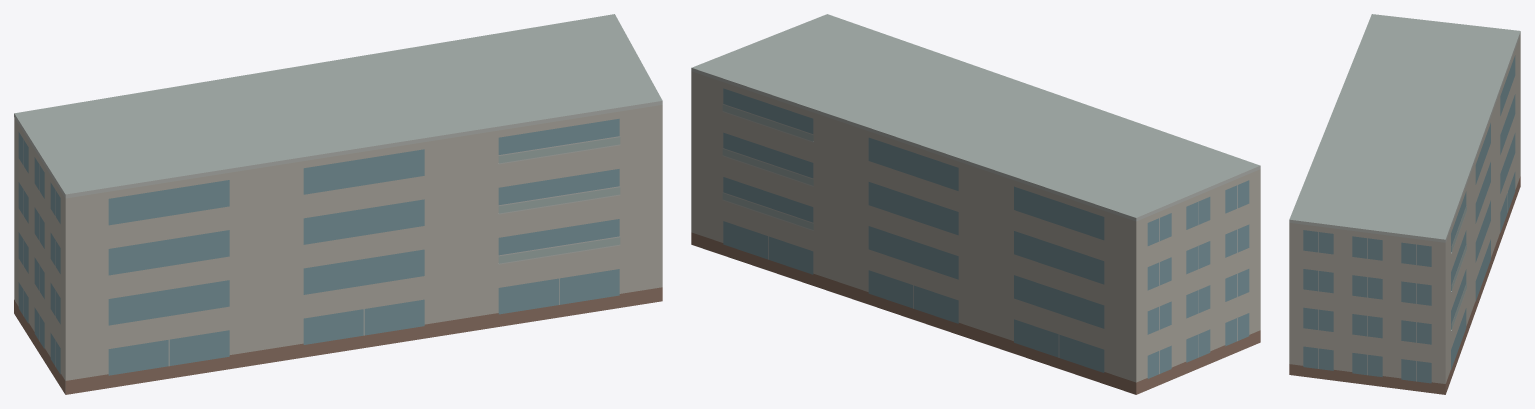
File: residential-3a960058-373b-4bc1-be45-e3796de93182.glb
The picture shows the model from 3 angles, left to right: view 1: azimuth 30°, elevation 25°; view 2: azimuth 150°, elevation 25°; view 3: azimuth 270°, elevation 25°; orthographic projection. The views are drawn at different scales.
Visible parts, largest first — view 1: residential-3a960058-373b-4bc1-be45-e3796de93182.tmp; view 2: residential-3a960058-373b-4bc1-be45-e3796de93182.tmp; view 3: residential-3a960058-373b-4bc1-be45-e3796de93182.tmp.
Boxes of the visible parts, box(x1,y1,x2,y2) form: residential-3a960058-373b-4bc1-be45-e3796de93182.tmp: box(14, 14, 662, 394); residential-3a960058-373b-4bc1-be45-e3796de93182.tmp: box(691, 14, 1260, 394); residential-3a960058-373b-4bc1-be45-e3796de93182.tmp: box(1289, 14, 1520, 394).
Bounding box in the file's own units: 38.04 × 12.2 × 16.49.
